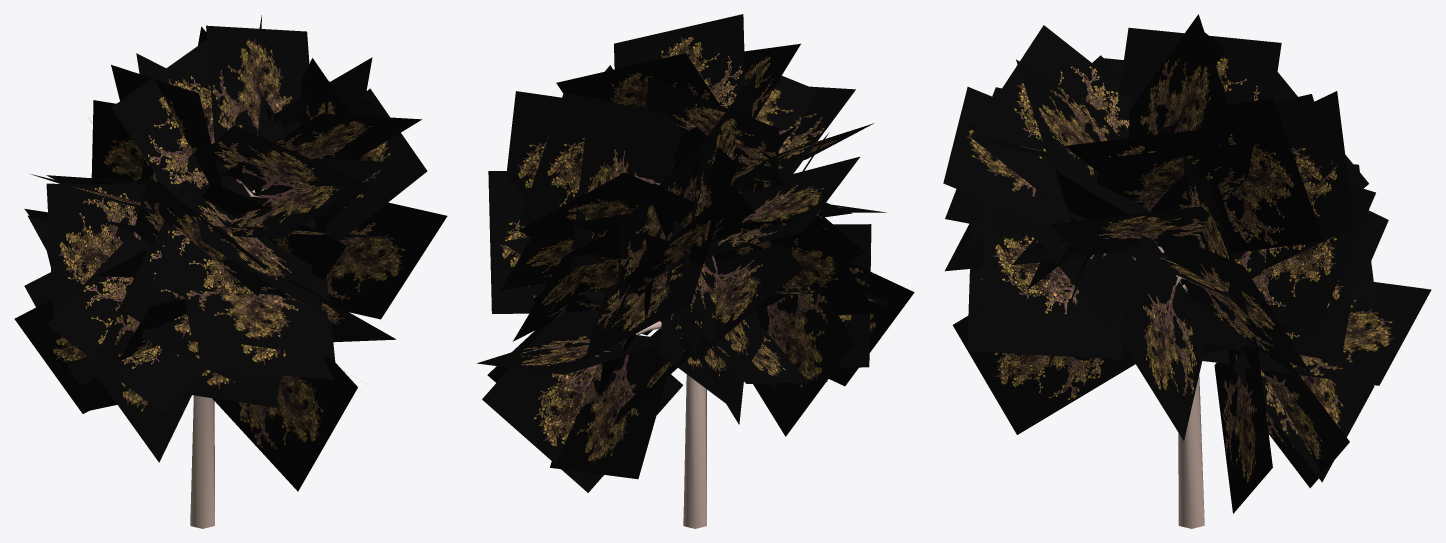
File: tree45.glb
The picture shows the model from 3 angles, left to right: view 1: azimuth 30°, elevation 25°; view 2: azimuth 150°, elevation 25°; view 3: azimuth 270°, elevation 25°; orthographic projection. The views are drawn at different scales.
Size of the model in its own units: 5.98 by 7.24 by 6.26.
2 materials, 1 textured.
